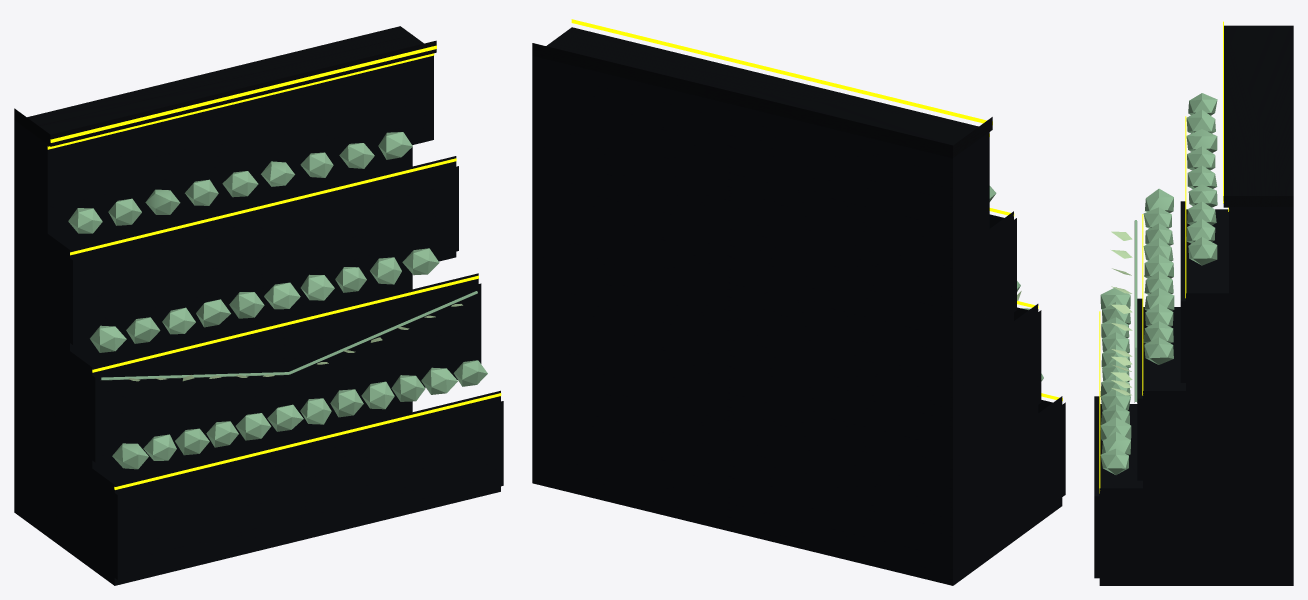
The picture shows the model from 3 angles, left to right: view 1: azimuth 30°, elevation 25°; view 2: azimuth 150°, elevation 25°; view 3: azimuth 270°, elevation 25°; orthographic projection. The views are drawn at different scales.
Visible parts, largest first — view 1: Skirt_Courses, Skirt_Core, Tread_Hedges, Coping, Court_Line_Nosings, Coping_Court_Line, Trailing_Vine; view 2: Skirt_Core, Skirt_Courses, Coping, Coping_Court_Line; view 3: Skirt_Courses, Tread_Hedges, Coping, Skirt_Core, Court_Line_Nosings, Trailing_Vine_Leaves, Trailing_Vine.
Part boxes in pixels (x1,y1,x2,y2): Skirt_Courses: (26, 55, 503, 585); Skirt_Core: (14, 35, 412, 520); Tread_Hedges: (68, 132, 487, 469); Coping: (14, 26, 436, 146); Court_Line_Nosings: (47, 53, 501, 489); Coping_Court_Line: (50, 45, 436, 142); Trailing_Vine: (101, 291, 477, 380); Skirt_Core: (532, 55, 966, 585); Skirt_Courses: (966, 132, 1065, 575); Coping: (532, 27, 992, 158); Coping_Court_Line: (571, 19, 992, 124); Skirt_Courses: (1094, 201, 1270, 585); Tread_Hedges: (1100, 93, 1217, 474); Coping: (1223, 25, 1293, 207); Skirt_Core: (1270, 207, 1293, 585); Court_Line_Nosings: (1099, 116, 1228, 493); Trailing_Vine_Leaves: (1111, 231, 1132, 395); Trailing_Vine: (1134, 220, 1137, 402).
Size of what is drawn, in the model's own units: 4 by 4 by 1.85.
Materials: 5 (2 with a texture image).
